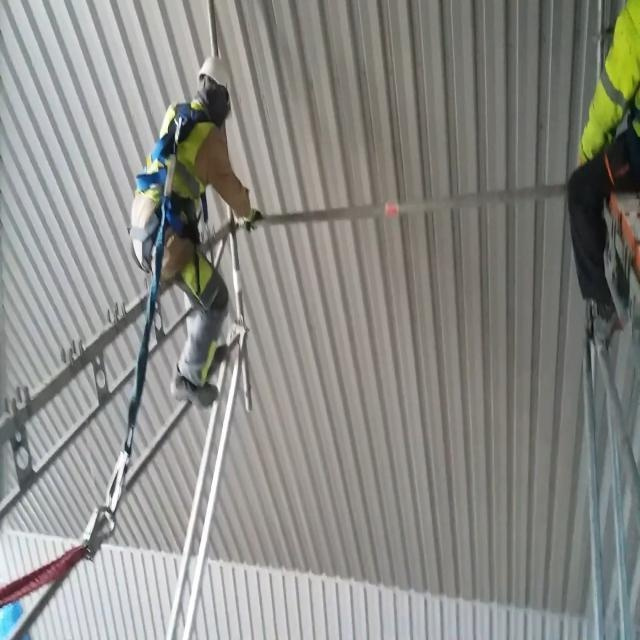Arnes_seguridad: (115, 91, 213, 287)
